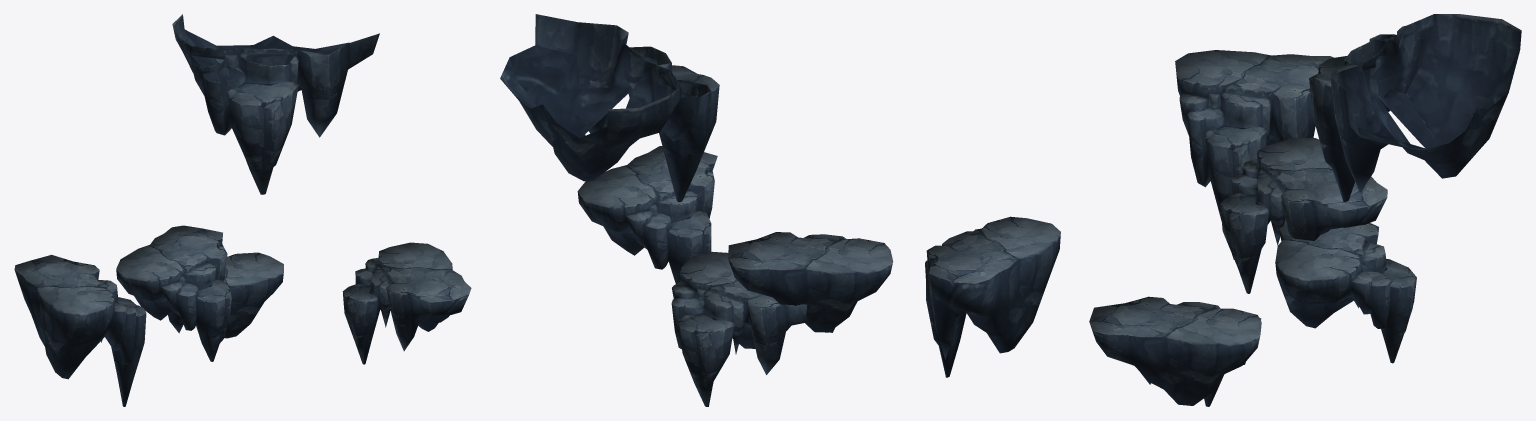
The model's file is Area_01_3.fbx.
The picture shows the model from 3 angles, left to right: view 1: azimuth 30°, elevation 25°; view 2: azimuth 150°, elevation 25°; view 3: azimuth 270°, elevation 25°; orthographic projection. The views are drawn at different scales.
Parts seen in each view (by area): view 1: Area_01_3; view 2: Area_01_3; view 3: Area_01_3.
Part boxes in pixels (left/top/right/bottom): Area_01_3: left=14, top=14, right=471, bottom=406; Area_01_3: left=500, top=14, right=1060, bottom=406; Area_01_3: left=1089, top=14, right=1521, bottom=406.
Bounding box in the file's own units: 8183 × 5563 × 6202.
